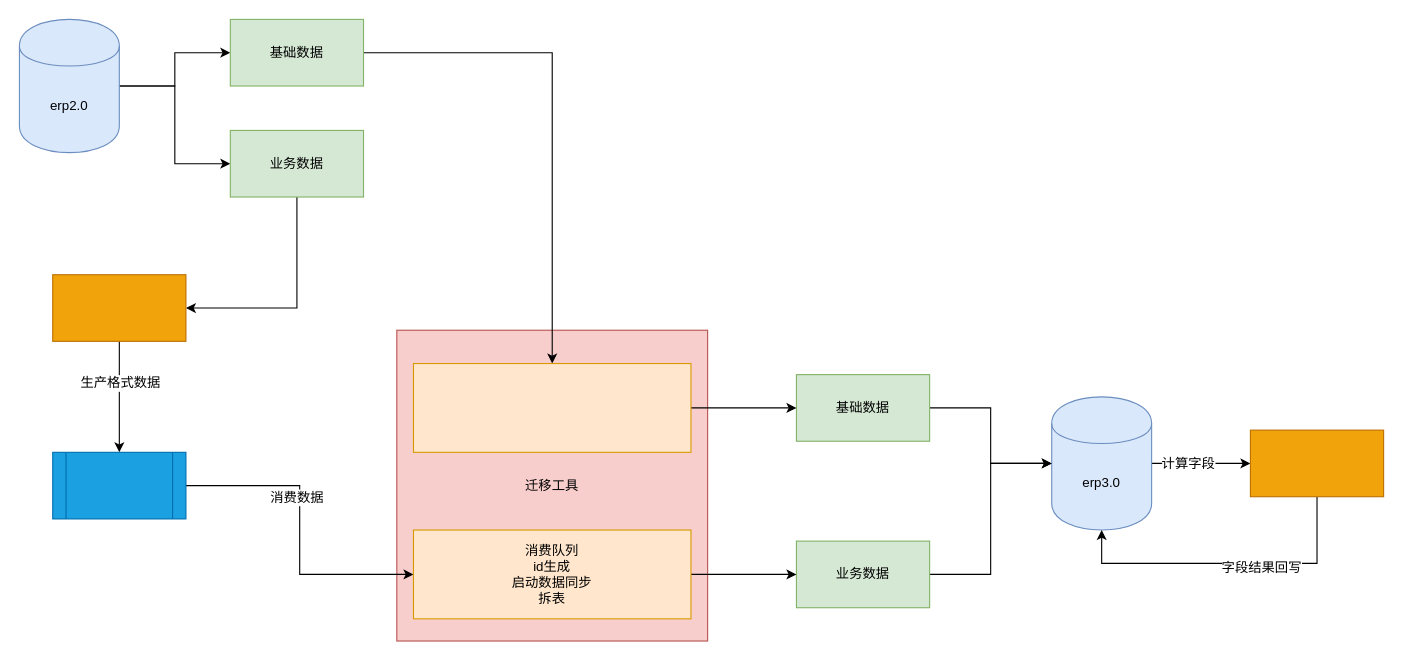
Some shapes in this 1403 by 660 pixel diagram are drawn without their labels. The centre of each missing label's shape, as x and y in pixels:
批量启动数据同步 批量id生成 字段填充 字段计算: point (551, 407)
数据计算服务: point (1316, 463)
数据队列: point (119, 485)
清洗服务: point (119, 307)
